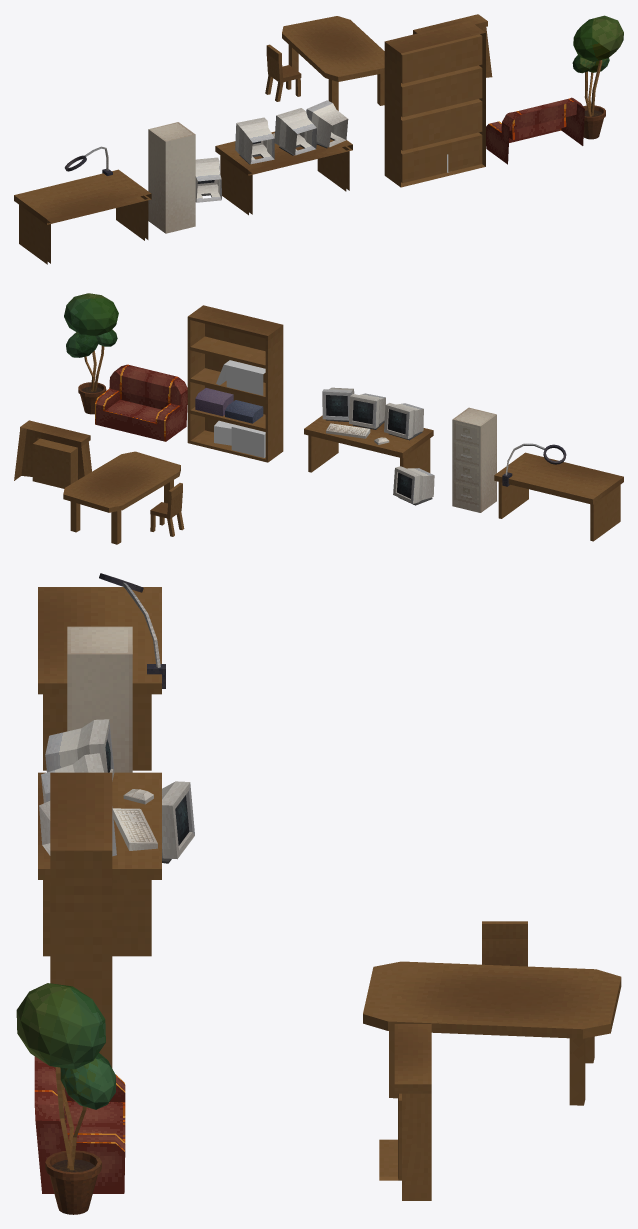
File: yachik_i_eshe_cheto.fbx
The picture shows the model from 3 angles, top to bottom: view 1: azimuth 30°, elevation 25°; view 2: azimuth 150°, elevation 25°; view 3: azimuth 270°, elevation 25°; orthographic projection. The views are drawn at different scales.
Parts seen in each view (by area): view 1: ШкафСп, Компьютерный стол.001, Стол, Cube.001, Компьютерный стол, Диван, Цветок.001, Monitor.001, Monitor.002, Цветок, Monitor, Monitor.003 (+3 smaller); view 2: ШкафСп, Компьютерный стол.001, Диван, Стол, Cube.001, Камин, Компьютерный стол, Цветок.001, Цветок, Одежда, Monitor.003, Коробки (+7 smaller); view 3: Стол, ШкафСп, Компьютерный стол.001, Компьютерный стол, Cube.001, Камин, Диван, Цветок.001, Цветок, Monitor.002, Monitor.003, Стул (+3 smaller).
Boxes of the visible parts, x1=… form: ШкафСп: x1=384, y1=21, x2=485, y2=187; Компьютерный стол.001: x1=14, y1=169, x2=151, y2=264; Стол: x1=282, y1=16, x2=384, y2=110; Cube.001: x1=148, y1=122, x2=195, y2=233; Компьютерный стол: x1=215, y1=131, x2=352, y2=215; Диван: x1=486, y1=97, x2=584, y2=164; Цветок.001: x1=573, y1=15, x2=623, y2=61; Monitor.001: x1=274, y1=108, x2=316, y2=155; Monitor.002: x1=235, y1=117, x2=274, y2=164; Цветок: x1=572, y1=55, x2=609, y2=139; Monitor: x1=306, y1=100, x2=348, y2=148; Monitor.003: x1=195, y1=157, x2=221, y2=202; ШкафСп: x1=187, y1=305, x2=283, y2=462; Компьютерный стол.001: x1=494, y1=452, x2=623, y2=541; Диван: x1=95, y1=364, x2=187, y2=441; Стол: x1=63, y1=451, x2=180, y2=544; Cube.001: x1=452, y1=407, x2=496, y2=512; Камин: x1=14, y1=420, x2=91, y2=488; Компьютерный стол: x1=304, y1=415, x2=433, y2=472; Цветок.001: x1=64, y1=293, x2=118, y2=336; Цветок: x1=66, y1=329, x2=117, y2=414; Одежда: x1=195, y1=388, x2=263, y2=423; Monitor.003: x1=393, y1=466, x2=434, y2=505; Коробки: x1=214, y1=420, x2=265, y2=457; Стол: x1=363, y1=961, x2=621, y2=1105; ШкафСп: x1=50, y1=772, x2=112, y2=1067; Компьютерный стол.001: x1=38, y1=587, x2=161, y2=770; Компьютерный стол: x1=38, y1=772, x2=161, y2=956; Cube.001: x1=67, y1=626, x2=132, y2=772; Камин: x1=379, y1=1024, x2=431, y2=1200; Диван: x1=34, y1=1056, x2=125, y2=1193; Цветок.001: x1=16, y1=983, x2=105, y2=1069; Цветок: x1=45, y1=1053, x2=115, y2=1214; Monitor.002: x1=45, y1=719, x2=114, y2=781; Monitor.003: x1=162, y1=781, x2=194, y2=863; Стул: x1=482, y1=921, x2=527, y2=966.
Bounding box in the file's own units: 959 × 215 × 456.
